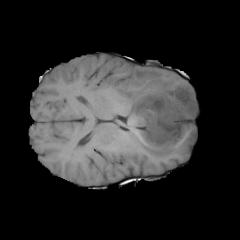glioma: (115, 66, 196, 157)
